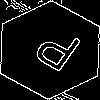P: (25, 25, 85, 82)
